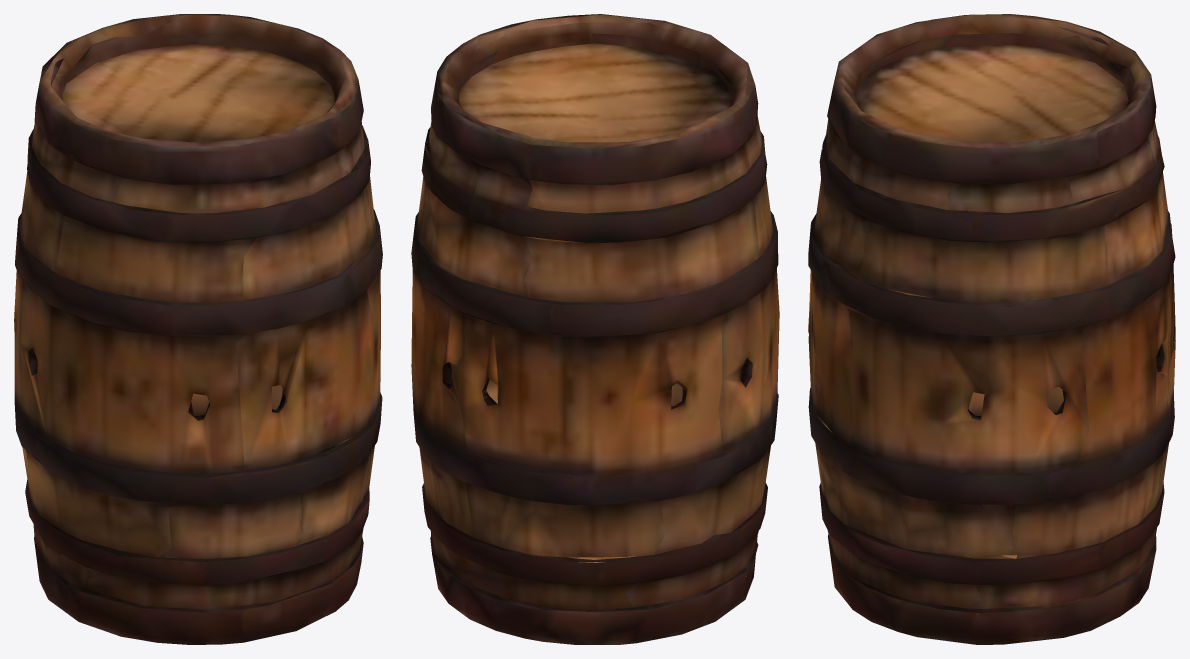
The model's file is barril.movil.glb.
The picture shows the model from 3 angles, left to right: view 1: azimuth 30°, elevation 25°; view 2: azimuth 150°, elevation 25°; view 3: azimuth 270°, elevation 25°; orthographic projection.
Parts seen in each view (by area): view 1: geometry_0; view 2: geometry_0; view 3: geometry_0.
Part boxes in pixels (x1,y1,x2,y2): geometry_0: (14,14,382,644); geometry_0: (411,14,779,644); geometry_0: (808,14,1175,644).
Bounding box in the file's own units: 0.5993 × 0.8997 × 0.5998.
1 material, 1 textured.
